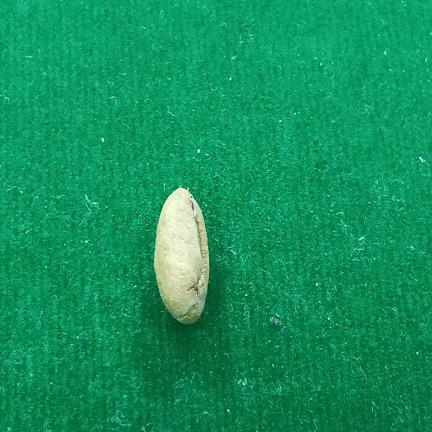good: (154, 187, 209, 324)
